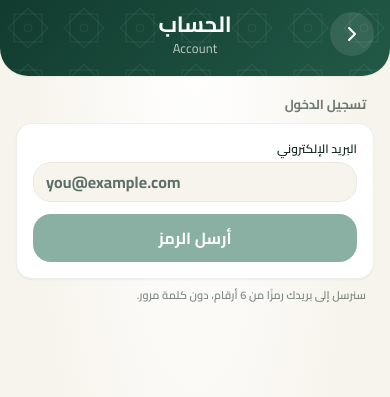
sending the code › resend waits 60 seconds, then sends again
This screenshot has width=390, height=397.
Later steps or results of the test are not shown.
Type "user@example.com" into the field labelled "البريد الإلكتروني". click: (195, 182)
box: x1=33 y1=162 x2=357 y2=202
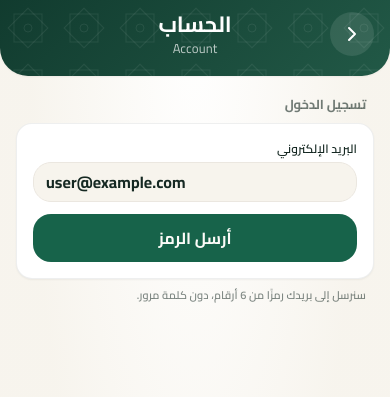
Click the button "أرسل الرمز". click: (195, 238)
box: x1=33 y1=214 x2=357 y2=262
Wait 61000 ms
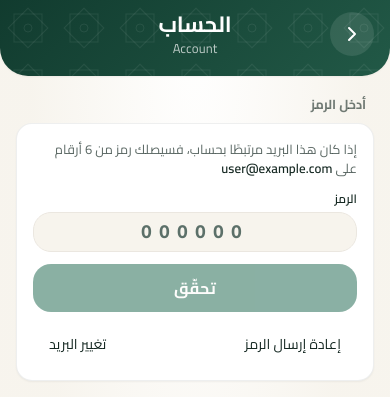
Check: the field labelled "الرمز" is shown, box x1=33 y1=212 x2=357 y2=252
Check: the button "إعادة إرسال الرمز" is enabled, box x1=229 y1=324 x2=357 y2=364
